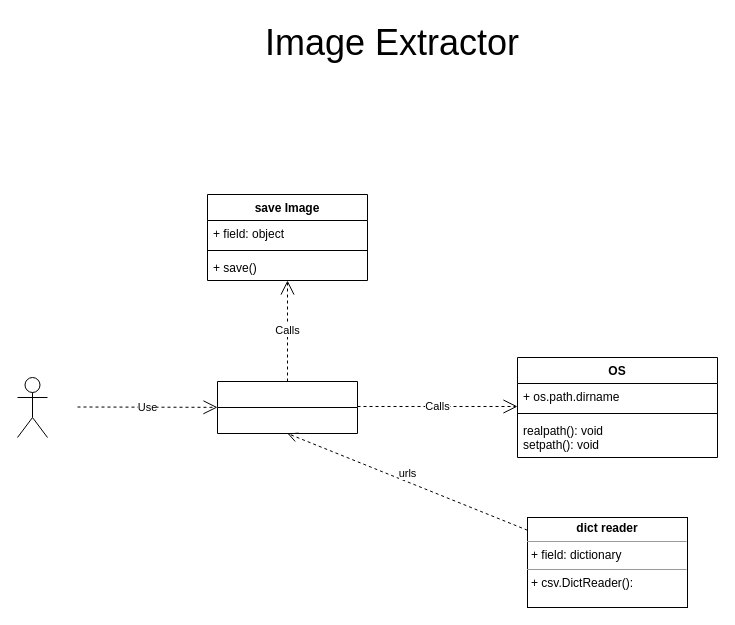
Some shapes in this 735 by 625 pixel diagram are drawn without their labels. Here are the shapes that lost their labels. From the top down, the centre of each, then its label:
(x=32, y=407): Actor
(x=287, y=407): ImageExtractor
